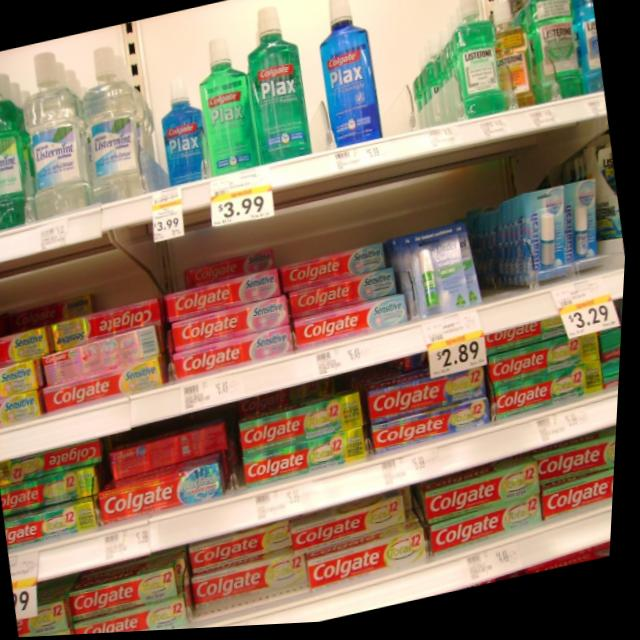q190: (170, 271, 289, 332), (176, 306, 292, 355), (182, 334, 293, 383)
